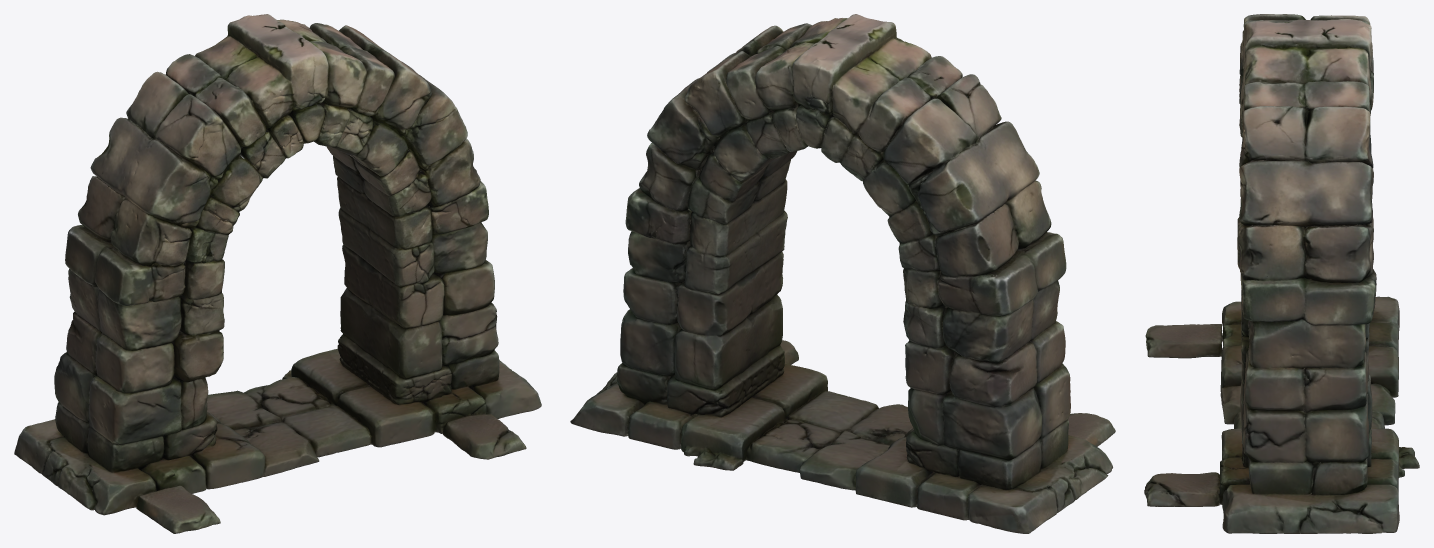
File: door-web.glb
3 renders of one model, left to right at view 1: azimuth 30°, elevation 25°; view 2: azimuth 150°, elevation 25°; view 3: azimuth 270°, elevation 25°, orthographic. The views are drawn at different scales.
Bounding box in the file's own units: 1.9 × 1.61 × 1.02.
1 material, 1 textured.
